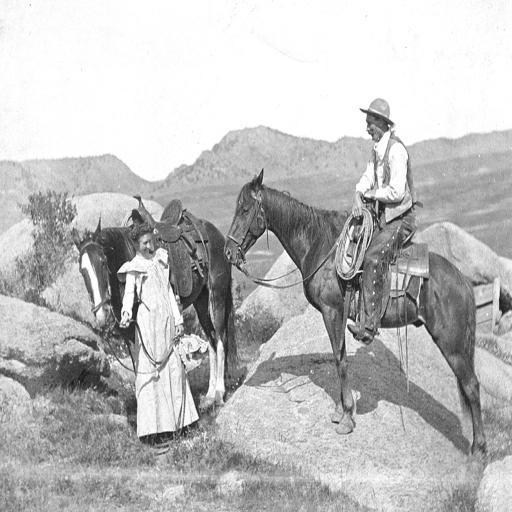horse: (224, 164, 488, 465), (72, 210, 240, 415)
